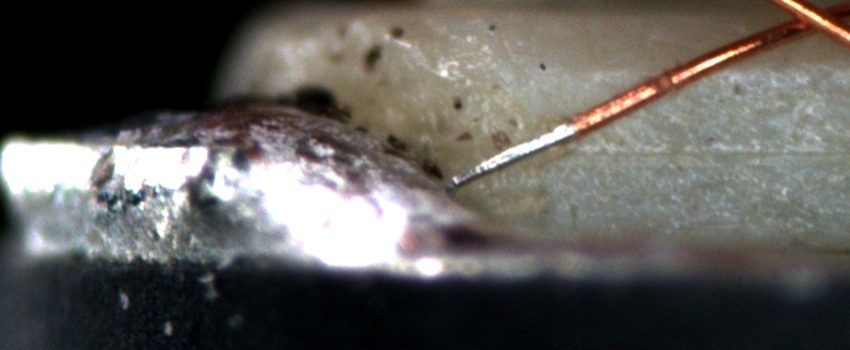CL: (763, 1, 845, 44)
DL: (562, 122, 850, 186), (567, 42, 850, 106)
TS: (446, 118, 577, 190)
TTCW: (442, 86, 652, 184)
